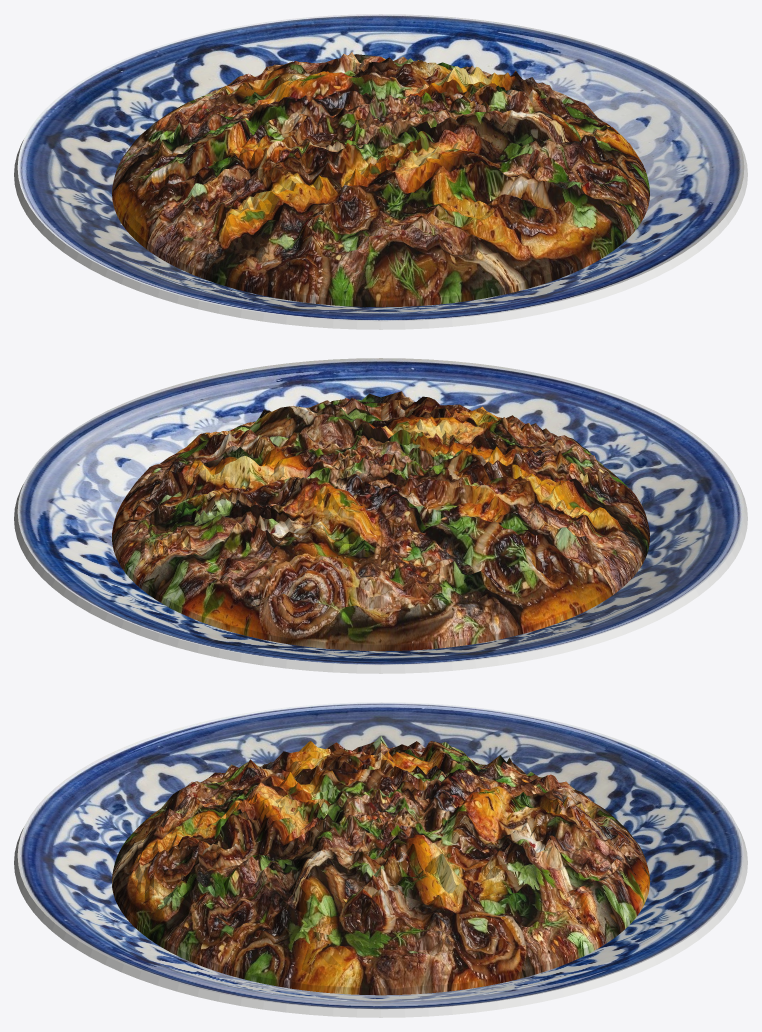
The model's file is qozon.glb.
3 renders of one model, top to bottom at view 1: azimuth 30°, elevation 25°; view 2: azimuth 150°, elevation 25°; view 3: azimuth 270°, elevation 25°, orthographic.
Parts seen in each view (by area): view 1: qozon_2, qozon_0, qozon_1; view 2: qozon_2, qozon_0, qozon_1; view 3: qozon_2, qozon_0, qozon_1.
Part boxes in pixels (x1,y1,x2,y2): qozon_2: (112,52,649,307); qozon_0: (17,14,744,321); qozon_1: (14,140,747,329); qozon_2: (112,391,649,651); qozon_0: (17,358,744,665); qozon_1: (14,484,747,673); qozon_2: (112,736,650,995); qozon_0: (17,702,744,1009); qozon_1: (14,828,747,1017).
Bounding box in the file's own units: 0.2828 × 0.0482 × 0.2828.
Materials: 3 (2 with a texture image).
